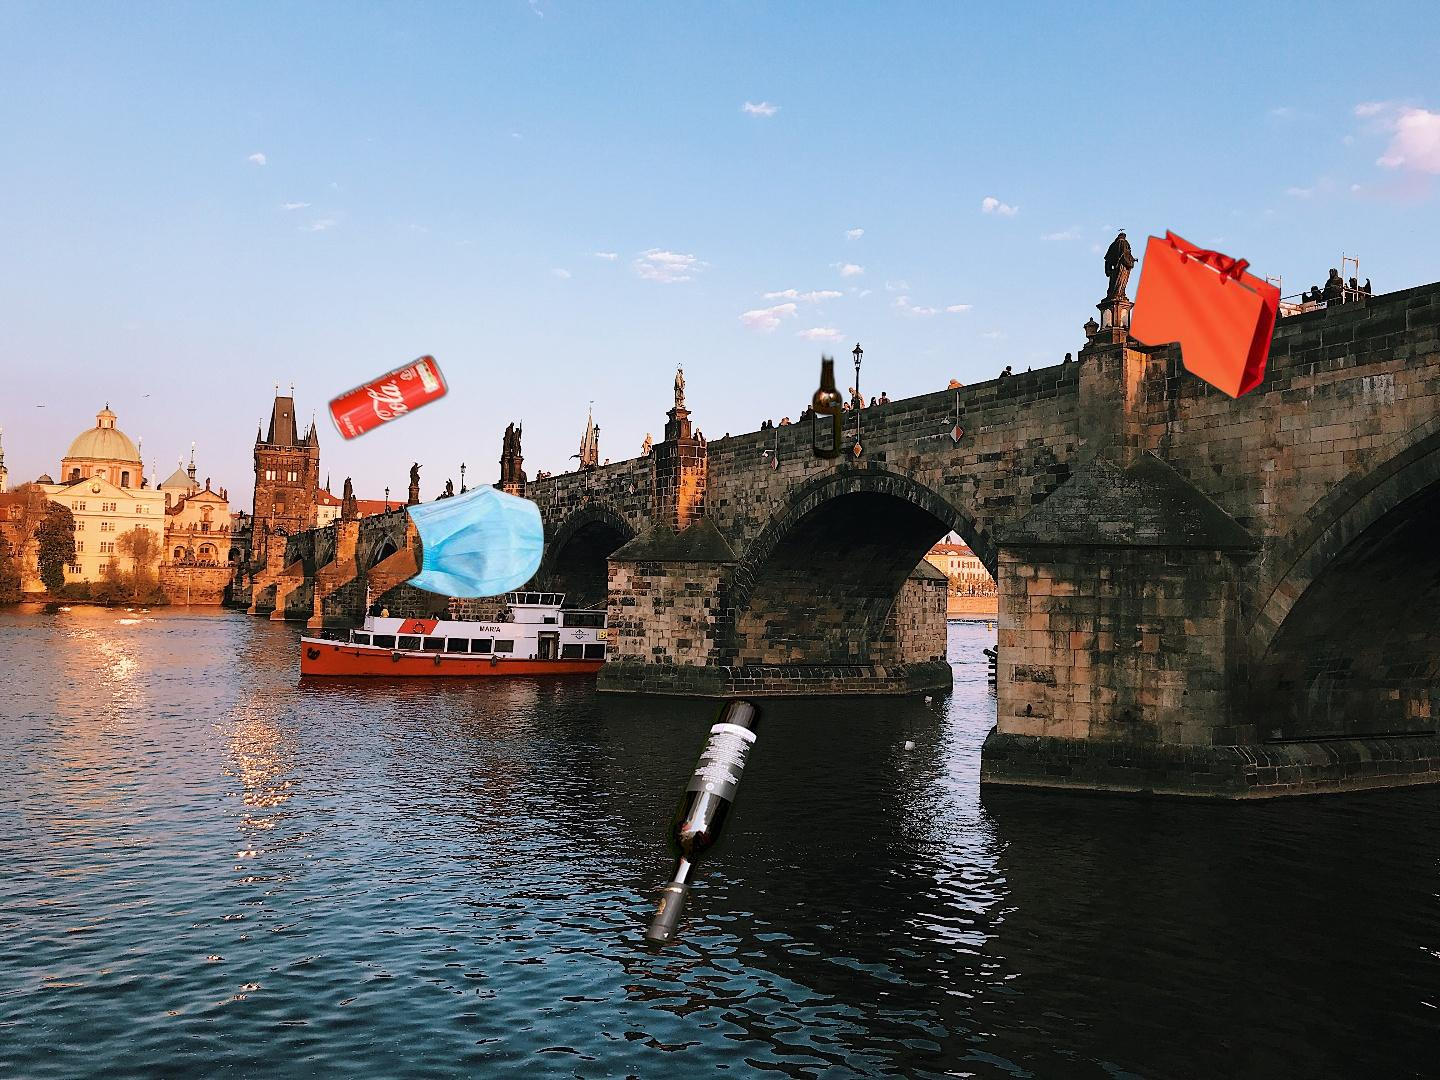glass: (641, 335, 1051, 952)
metal-cans: (324, 351, 452, 446)
paper-bag: (1125, 227, 1282, 402)
trash: (372, 481, 547, 601)
